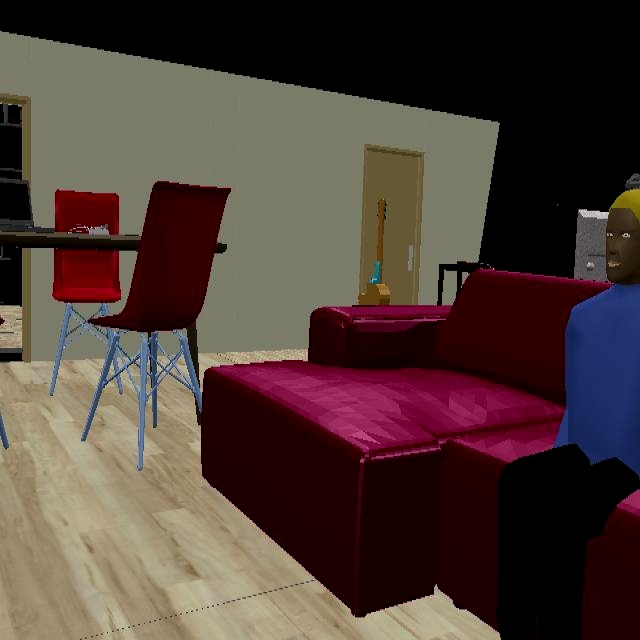chair: (49, 181, 223, 439), (55, 191, 119, 236)
laptop: (0, 175, 33, 227)
person: (497, 189, 640, 640)
sofa: (200, 269, 610, 629), (583, 492, 640, 640)
table: (0, 223, 141, 255)
